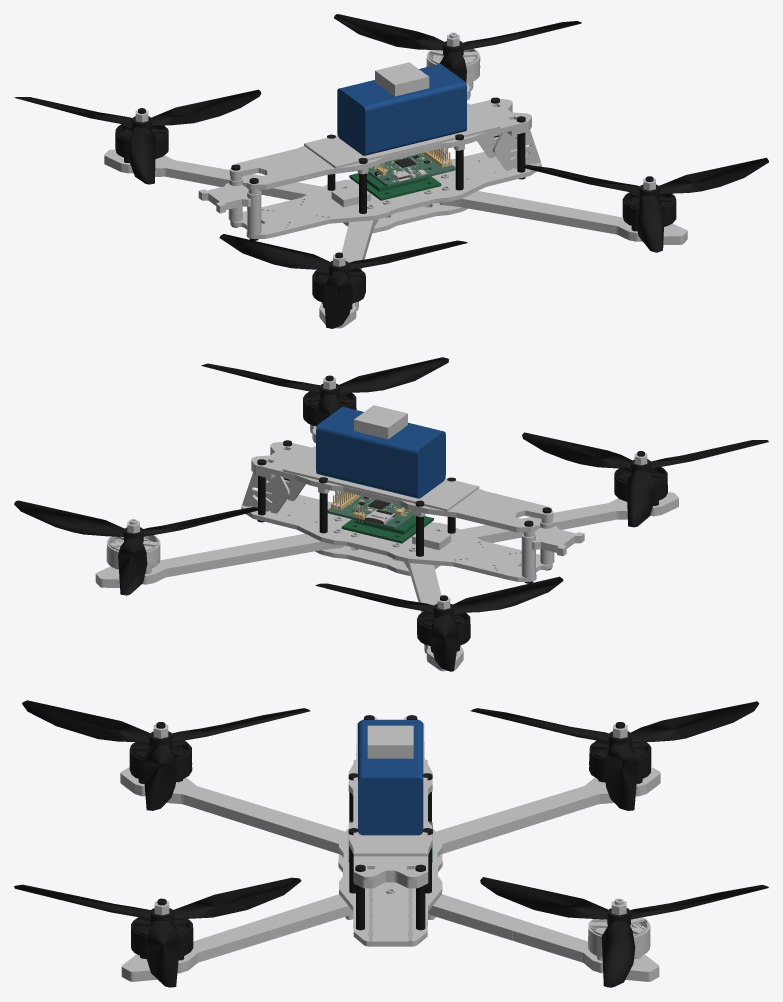
Rendered from quadcopter.glb.
3 views of the same model, one above another, from view 1: azimuth 30°, elevation 25°; view 2: azimuth 150°, elevation 25°; view 3: azimuth 270°, elevation 25° (orthographic). The views are drawn at different scales.
Parts seen in each view (by area): view 1: robot; view 2: robot; view 3: robot.
Boxes of the visible parts, <box> form: robot: <box>14,14,768,328</box>; robot: <box>14,357,768,671</box>; robot: <box>14,700,768,987</box>.
Size of the model in its own units: 0.3675 by 0.0928 by 0.409.
